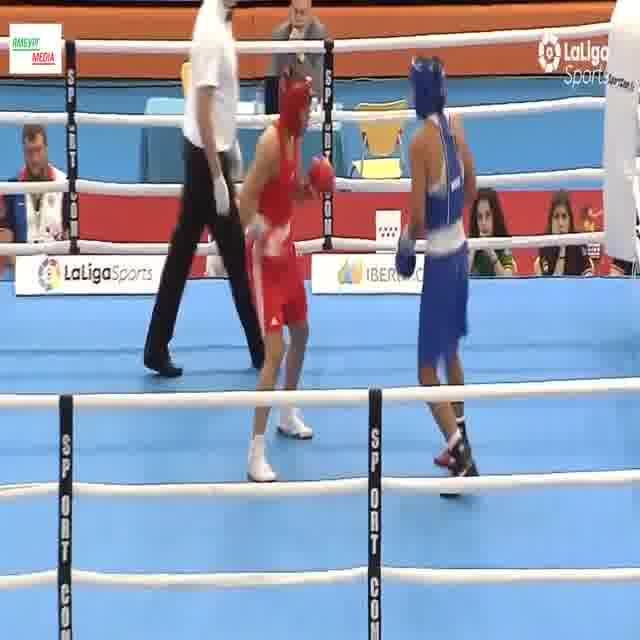blue-player: (392, 52, 482, 506)
red-player: (236, 63, 338, 491)
referee: (139, 0, 292, 383)
